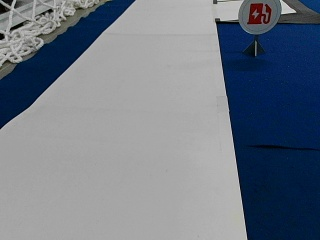battery: (237, 0, 282, 34)
